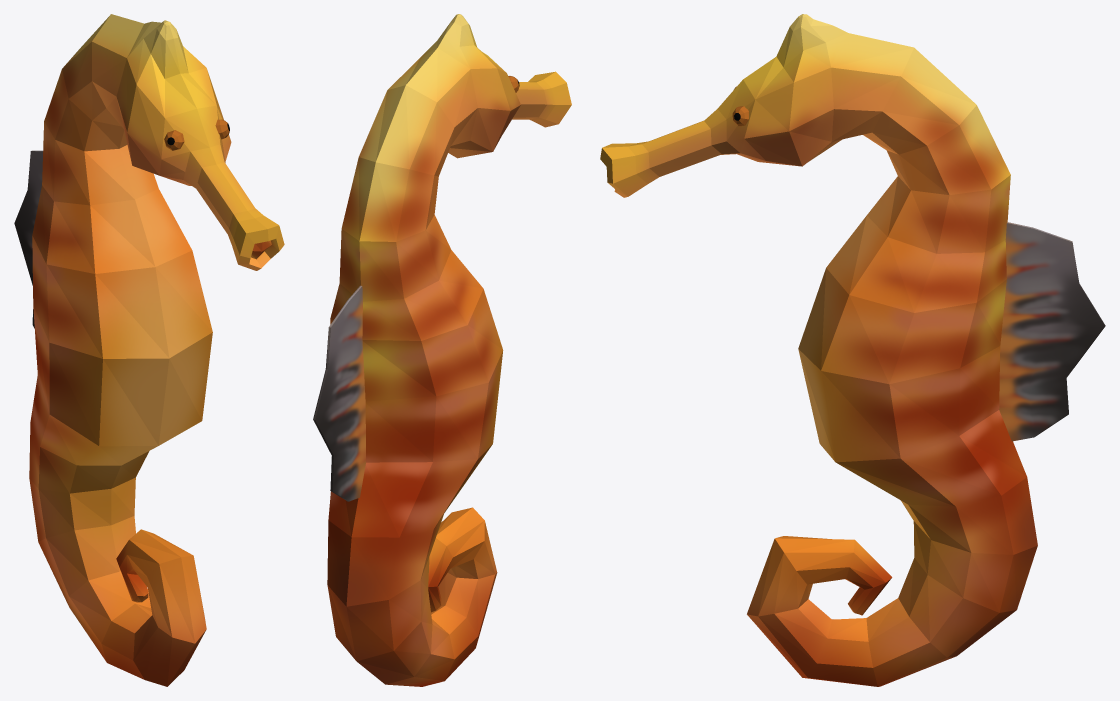
Rendered from caballodemar.gltf.
The picture shows the model from 3 angles, left to right: view 1: azimuth 30°, elevation 25°; view 2: azimuth 150°, elevation 25°; view 3: azimuth 270°, elevation 25°; orthographic projection. The views are drawn at different scales.
Visible parts, largest first — view 1: node-0; view 2: node-0; view 3: node-0.
Part boxes in pixels (x1=…): node-0: x1=14, y1=14, x2=284, y2=686; node-0: x1=313, y1=14, x2=571, y2=686; node-0: x1=600, y1=14, x2=1105, y2=686.
Size of the model in its own units: 1.38 by 5.98 by 4.07.
3 materials, 1 textured.
